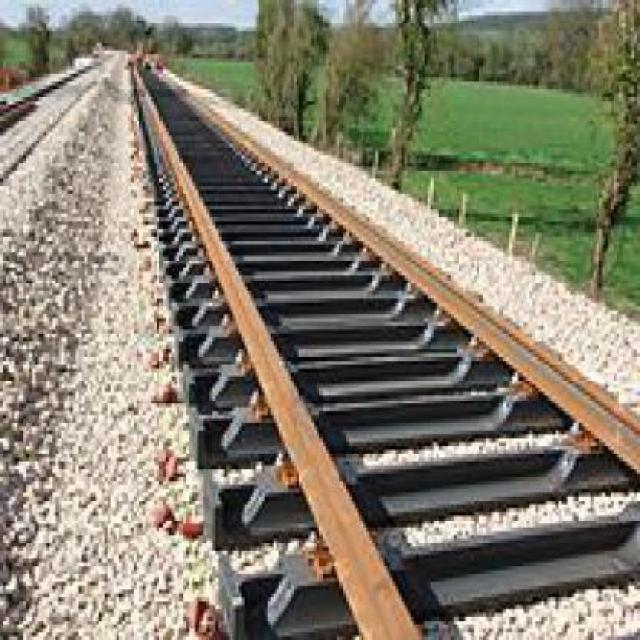defective: (128, 79, 640, 638)
